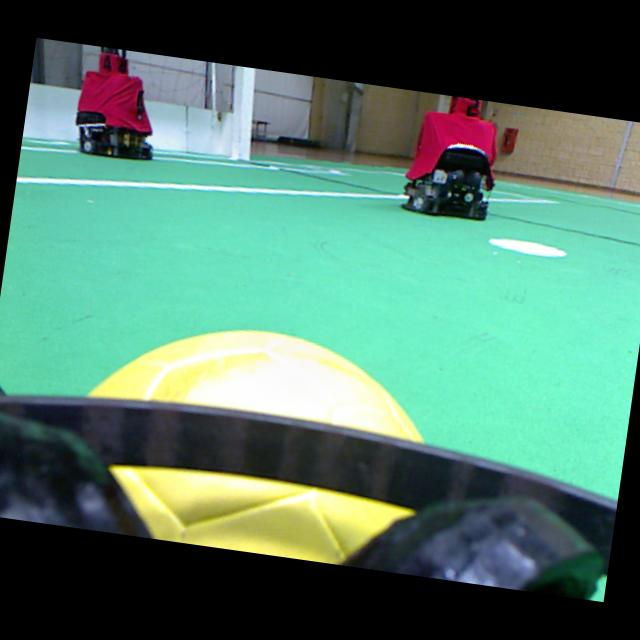ball: (78, 333, 431, 565)
goal: (230, 66, 255, 159)
